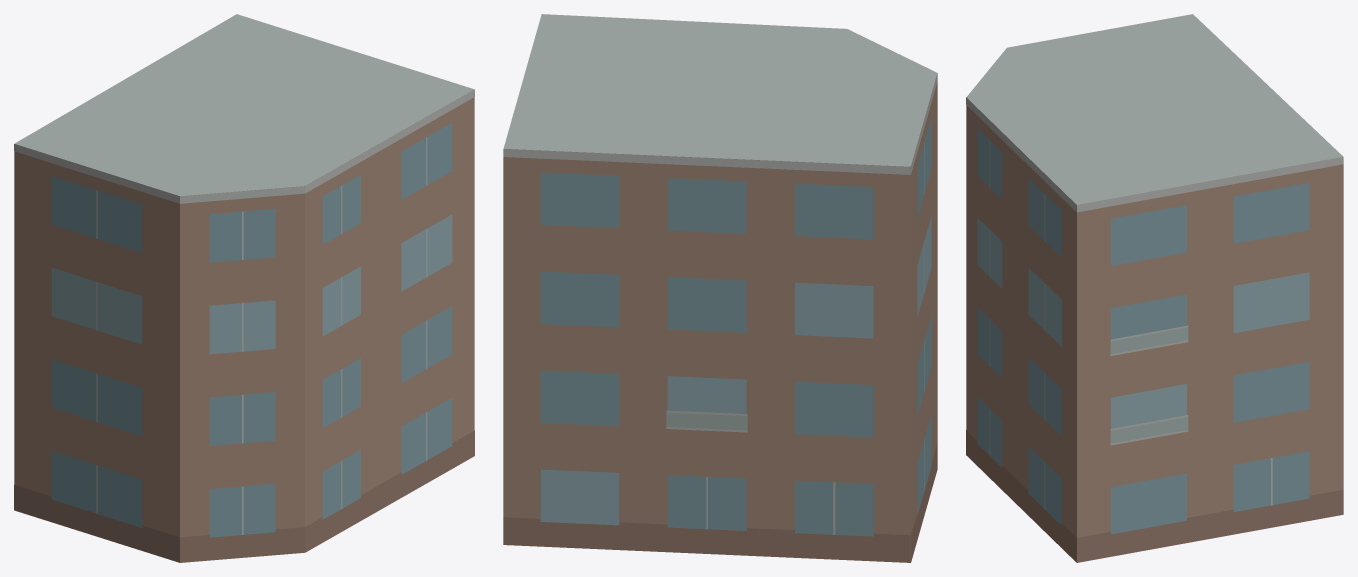
The model's file is survey-upis-32747989.glb.
The picture shows the model from 3 angles, left to right: view 1: azimuth 30°, elevation 25°; view 2: azimuth 150°, elevation 25°; view 3: azimuth 270°, elevation 25°; orthographic projection. The views are drawn at different scales.
Parts seen in each view (by area): view 1: survey-upis-32747989.tmp; view 2: survey-upis-32747989.tmp; view 3: survey-upis-32747989.tmp.
Part boxes in pixels (left/top/right/bottom): survey-upis-32747989.tmp: left=14, top=14, right=474, bottom=562; survey-upis-32747989.tmp: left=503, top=14, right=937, bottom=562; survey-upis-32747989.tmp: left=966, top=14, right=1343, bottom=562.
Size of the model in its own units: 13.52 by 11.8 by 11.29.
